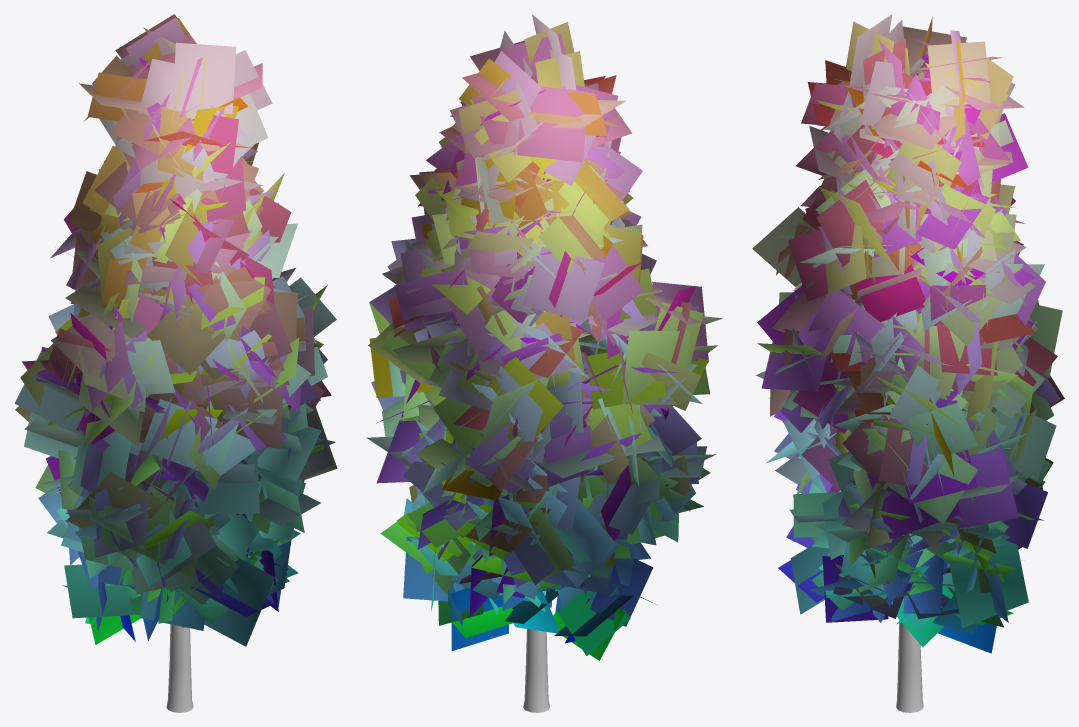
The model's file is tree_medium_birch_upright_canopy.glb.
3 views of the same model, side by side, from view 1: azimuth 30°, elevation 25°; view 2: azimuth 150°, elevation 25°; view 3: azimuth 270°, elevation 25° (orthographic). The views are drawn at different scales.
Visible parts, largest first — view 1: Birch_Foliage_24Groups, Birch_Trunk_Stylized; view 2: Birch_Foliage_24Groups, Birch_Trunk_Stylized; view 3: Birch_Foliage_24Groups, Birch_Trunk_Stylized.
Part boxes in pixels (x1,y1,x2,y2): Birch_Foliage_24Groups: (14,14,337,646); Birch_Trunk_Stylized: (166,624,193,712); Birch_Foliage_24Groups: (366,14,723,660); Birch_Trunk_Stylized: (523,629,549,712); Birch_Foliage_24Groups: (752,14,1064,653); Birch_Trunk_Stylized: (896,620,923,712).
Size of the model in its own units: 6.35 by 12.58 by 5.2.
